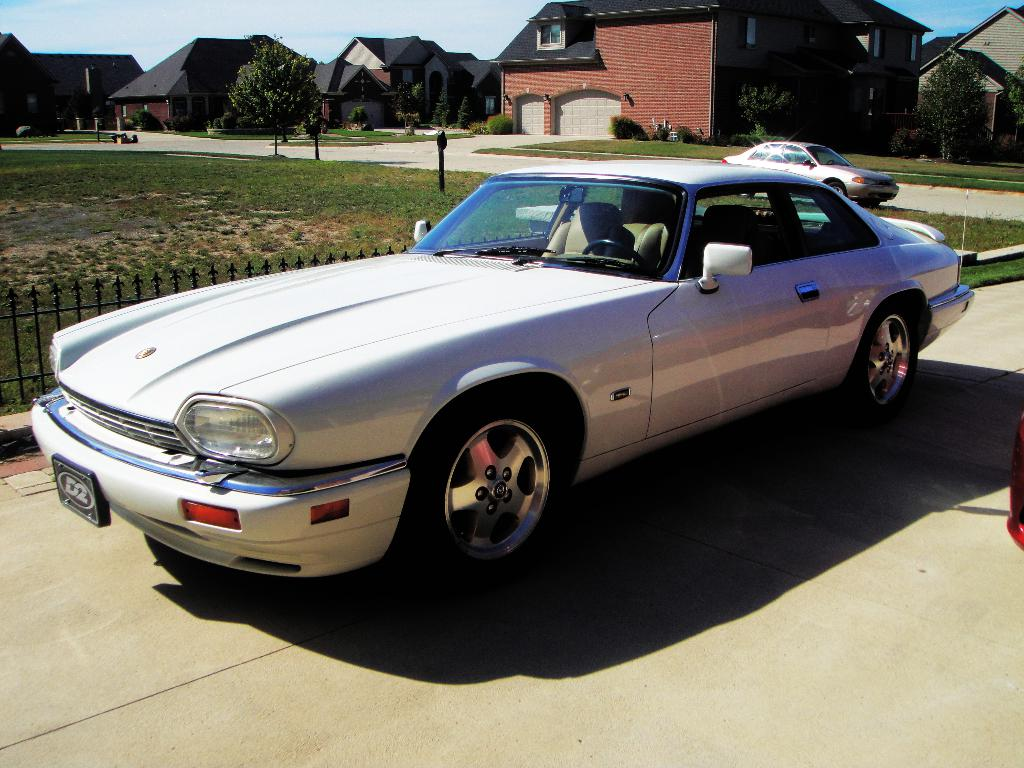Car: (39, 156, 938, 581), (709, 140, 899, 205), (1002, 402, 1023, 557)
